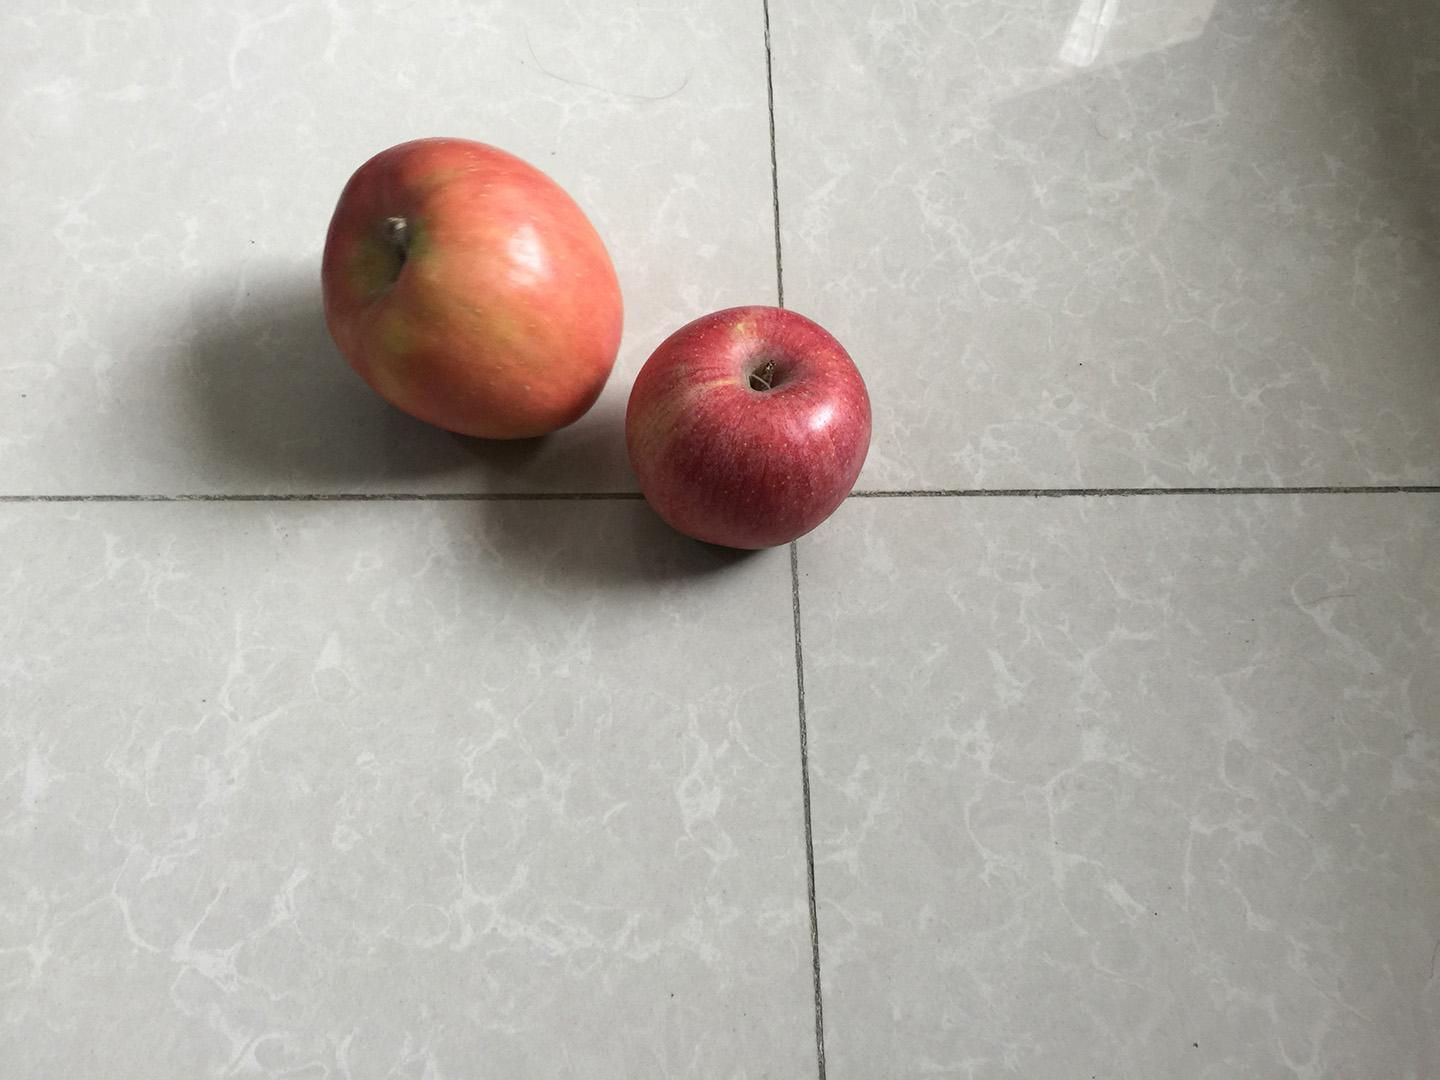apple: (314, 132, 633, 452), (620, 284, 881, 558)
